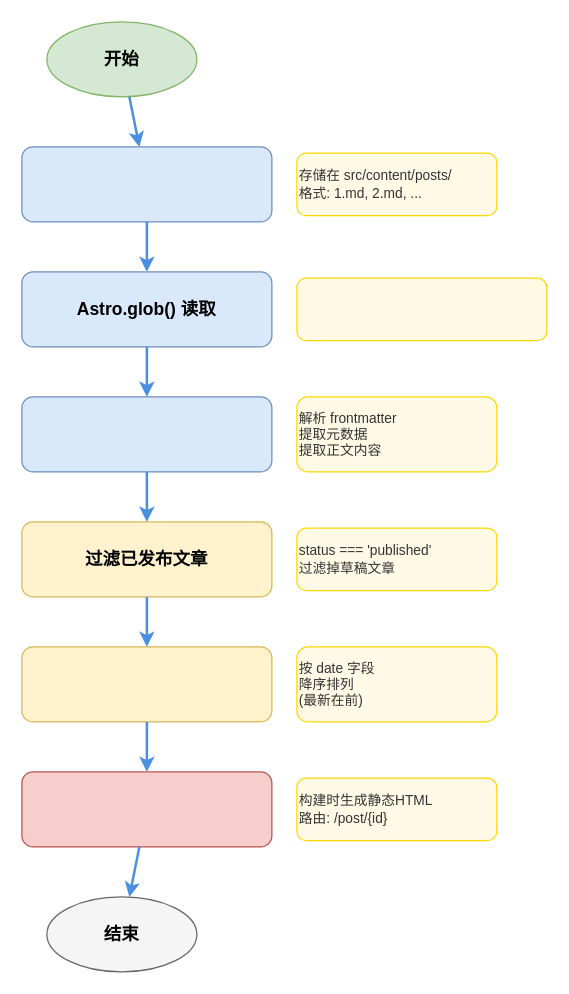
Image size: 569x994. Some labels were removed from this diagram. The box of each missing label's shape, as (x1, y1, x2, y2) in pixels:
Astro.glob('../../content/posts/*.md') 返回文件集合: (296, 277, 547, 341)
Markdown 文件: (21, 146, 272, 222)
processPosts() 处理: (21, 396, 272, 472)
按日期排序: (21, 646, 272, 722)
生成路由和页面: (21, 771, 272, 847)
